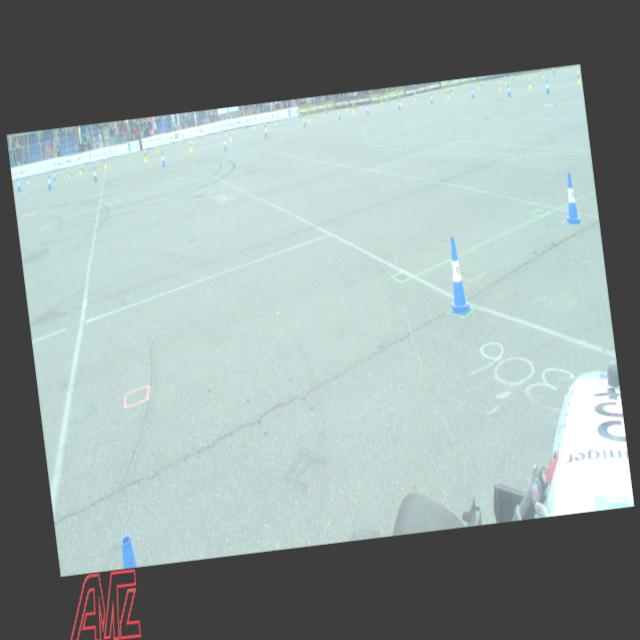blue_cone: (440, 236, 472, 316), (561, 172, 581, 225), (91, 166, 98, 182), (160, 150, 165, 166), (46, 174, 51, 188), (222, 136, 227, 150), (506, 84, 511, 96), (544, 79, 548, 93), (16, 178, 20, 191), (470, 86, 474, 98), (302, 115, 306, 126), (396, 98, 399, 110), (337, 108, 340, 119), (264, 126, 267, 137), (53, 171, 56, 179), (27, 178, 30, 185), (430, 94, 432, 104), (366, 104, 368, 114), (510, 72, 512, 80), (386, 96, 388, 104), (182, 136, 184, 144)
yellow_cone: (142, 148, 148, 162), (188, 139, 193, 152), (576, 70, 580, 83), (103, 156, 107, 168), (228, 128, 232, 140), (306, 112, 310, 122), (78, 162, 81, 174), (264, 120, 267, 131), (66, 168, 70, 176), (541, 68, 544, 78), (497, 80, 500, 90), (503, 74, 506, 84), (446, 89, 449, 98), (476, 80, 479, 89), (75, 167, 78, 176), (126, 152, 129, 160), (97, 162, 100, 170), (155, 145, 158, 153), (398, 96, 401, 104), (528, 77, 530, 88), (253, 122, 256, 129), (225, 128, 228, 135), (352, 103, 354, 113), (450, 86, 452, 95), (191, 136, 193, 144), (276, 118, 278, 125), (323, 108, 325, 115), (380, 98, 382, 104)
